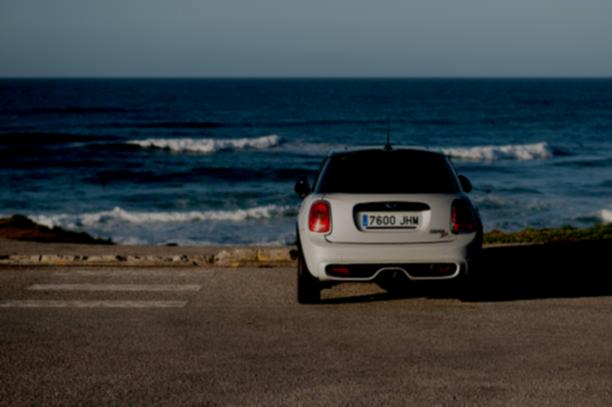mini: (380, 198, 403, 216)
